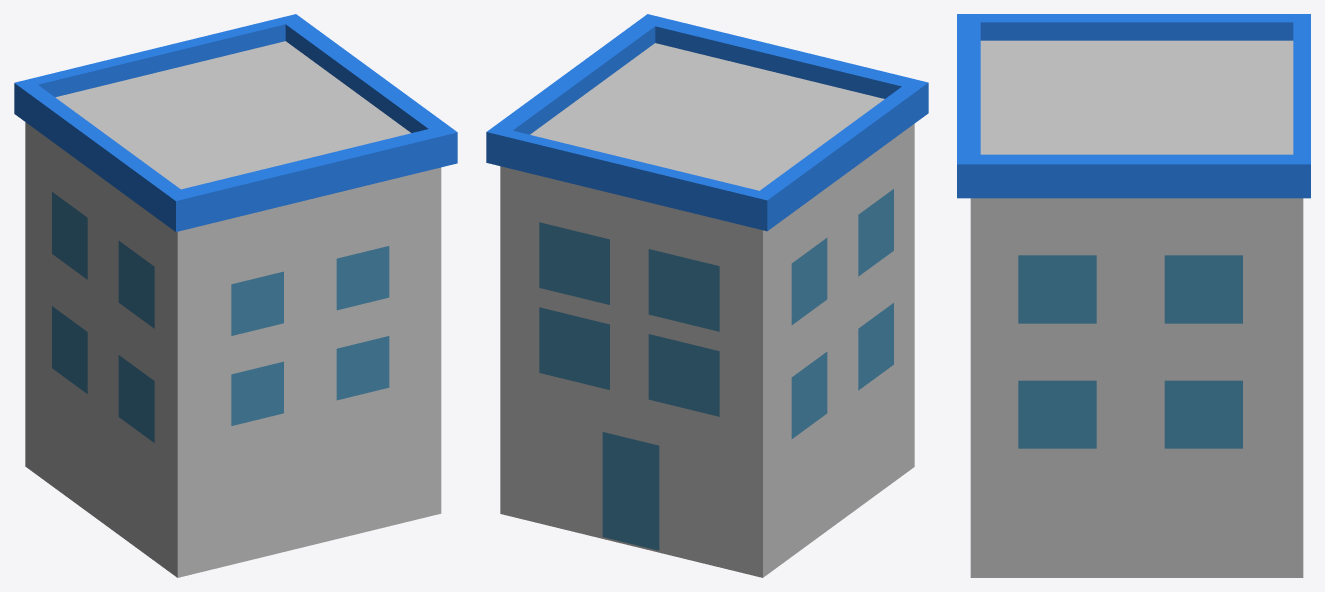
Rendered from building_small_blue.glb.
The picture shows the model from 3 angles, left to right: view 1: azimuth 30°, elevation 25°; view 2: azimuth 150°, elevation 25°; view 3: azimuth 270°, elevation 25°; orthographic projection. The views are drawn at different scales.
Visible parts, largest first — view 1: building_small_orange; view 2: building_small_orange; view 3: building_small_orange.
Part boxes in pixels (<box>): building_small_orange: <box>14,14,457,577</box>; building_small_orange: <box>486,14,928,577</box>; building_small_orange: <box>957,14,1310,577</box>.
Bounding box in the file's own units: 11.48 × 14.91 × 11.41.
Materials: 1 (1 with a texture image).
